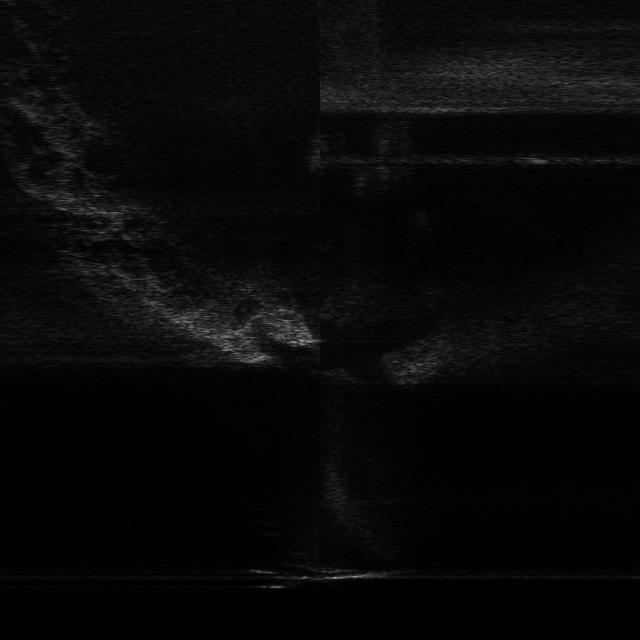plane: (243, 563, 411, 589)
